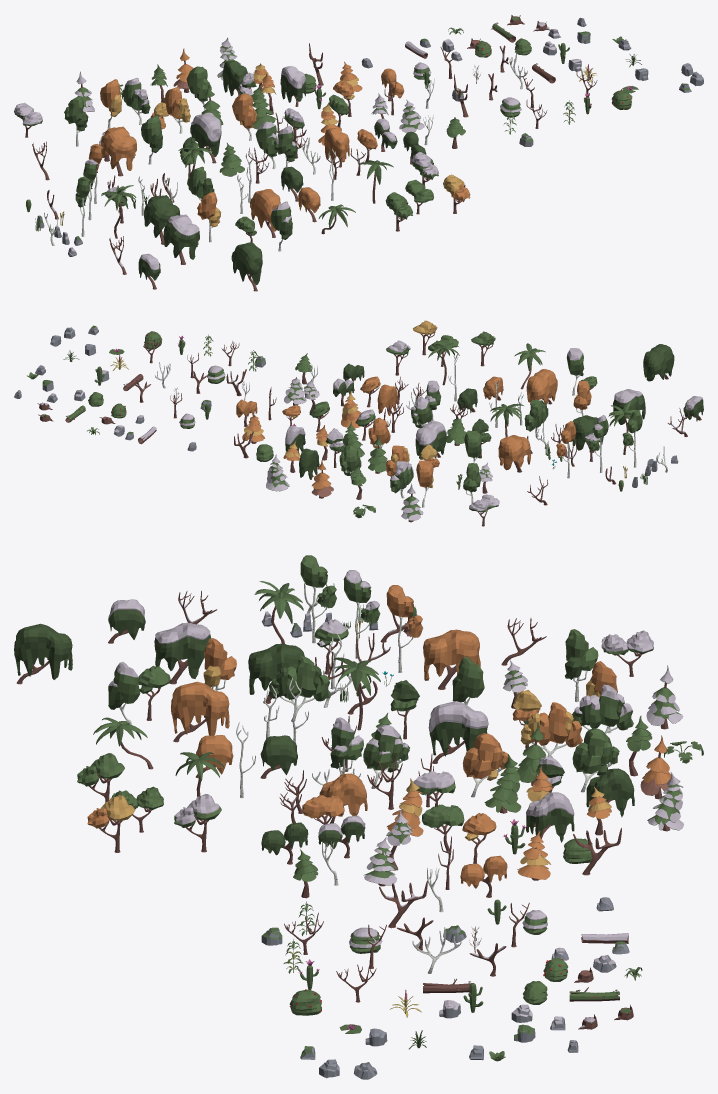
Rendered from veg.glb.
3 views of the same model, one above another, from view 1: azimuth 30°, elevation 25°; view 2: azimuth 150°, elevation 25°; view 3: azimuth 270°, elevation 25° (orthographic). The views are drawn at different scales.
Visible parts, largest first — view 1: Willow_Snow_4, Willow_Autumn_4, Willow_2, Willow_Snow_2, Willow_4, Willow_Autumn_2, Willow_Snow_1, BirchTree_Snow_4, Willow_Autumn_1, BirchTree_Autumn_4, BirchTree_Autumn_1, BirchTree_Snow_2 (+22 smaller); view 2: Willow_Autumn_4, Willow_2, Willow_Autumn_2, Willow_Snow_2, Willow_Snow_4, Willow_4, BirchTree_Snow_4, BirchTree_4, PineTree_Snow_3, BirchTree_Snow_1, Willow_1, BirchTree_1 (+34 smaller); view 3: Willow_2, Willow_Autumn_2, Willow_Snow_2, Willow_Snow_4, Willow_Autumn_4, BirchTree_4, BirchTree_Snow_4, BirchTree_Autumn_4, Willow_Snow_1, BirchTree_1, Willow_4, BirchTree_Snow_1 (+36 smaller).
Part boxes in pixels (box(x1,y1,x2,y2)): Willow_Snow_4: box(163, 214, 199, 264); Willow_Autumn_4: box(100, 126, 136, 176); Willow_2: box(231, 242, 262, 291); Willow_Snow_2: box(190, 112, 221, 163); Willow_4: box(144, 195, 180, 244); Willow_Autumn_2: box(250, 189, 280, 237); Willow_Snow_1: box(280, 66, 305, 106); BirchTree_Snow_4: box(122, 78, 150, 125); Willow_Autumn_1: box(324, 128, 349, 167); BirchTree_Autumn_4: box(163, 87, 190, 133); BirchTree_Autumn_1: box(232, 93, 256, 140); BirchTree_Snow_2: box(271, 201, 292, 251); Willow_Autumn_4: box(498, 435, 530, 472); Willow_2: box(643, 344, 674, 381); Willow_Autumn_2: box(526, 369, 557, 404); Willow_Snow_2: box(415, 420, 446, 459); Willow_Snow_4: box(613, 389, 645, 424); Willow_4: box(572, 415, 603, 452); BirchTree_Snow_4: box(390, 461, 413, 498); BirchTree_4: box(524, 400, 548, 436); PineTree_Snow_3: box(266, 454, 289, 491); BirchTree_Snow_1: box(411, 396, 432, 428); Willow_1: box(299, 448, 319, 479); BirchTree_1: box(339, 444, 361, 480); Willow_2: box(14, 623, 72, 684); Willow_Autumn_2: box(171, 681, 229, 742); Willow_Snow_2: box(428, 701, 488, 763); Willow_Snow_4: box(154, 622, 210, 684); Willow_Autumn_4: box(423, 629, 480, 689); BirchTree_4: box(268, 656, 330, 721); BirchTree_Snow_4: box(572, 684, 633, 733); BirchTree_Autumn_4: box(520, 702, 582, 756); Willow_Snow_1: box(526, 792, 574, 842); BirchTree_1: box(572, 728, 619, 792); Willow_4: box(248, 643, 304, 703); BirchTree_Snow_1: box(363, 724, 409, 788).
Bounding box in the file's own units: 57.08 × 5.95 × 36.4.
